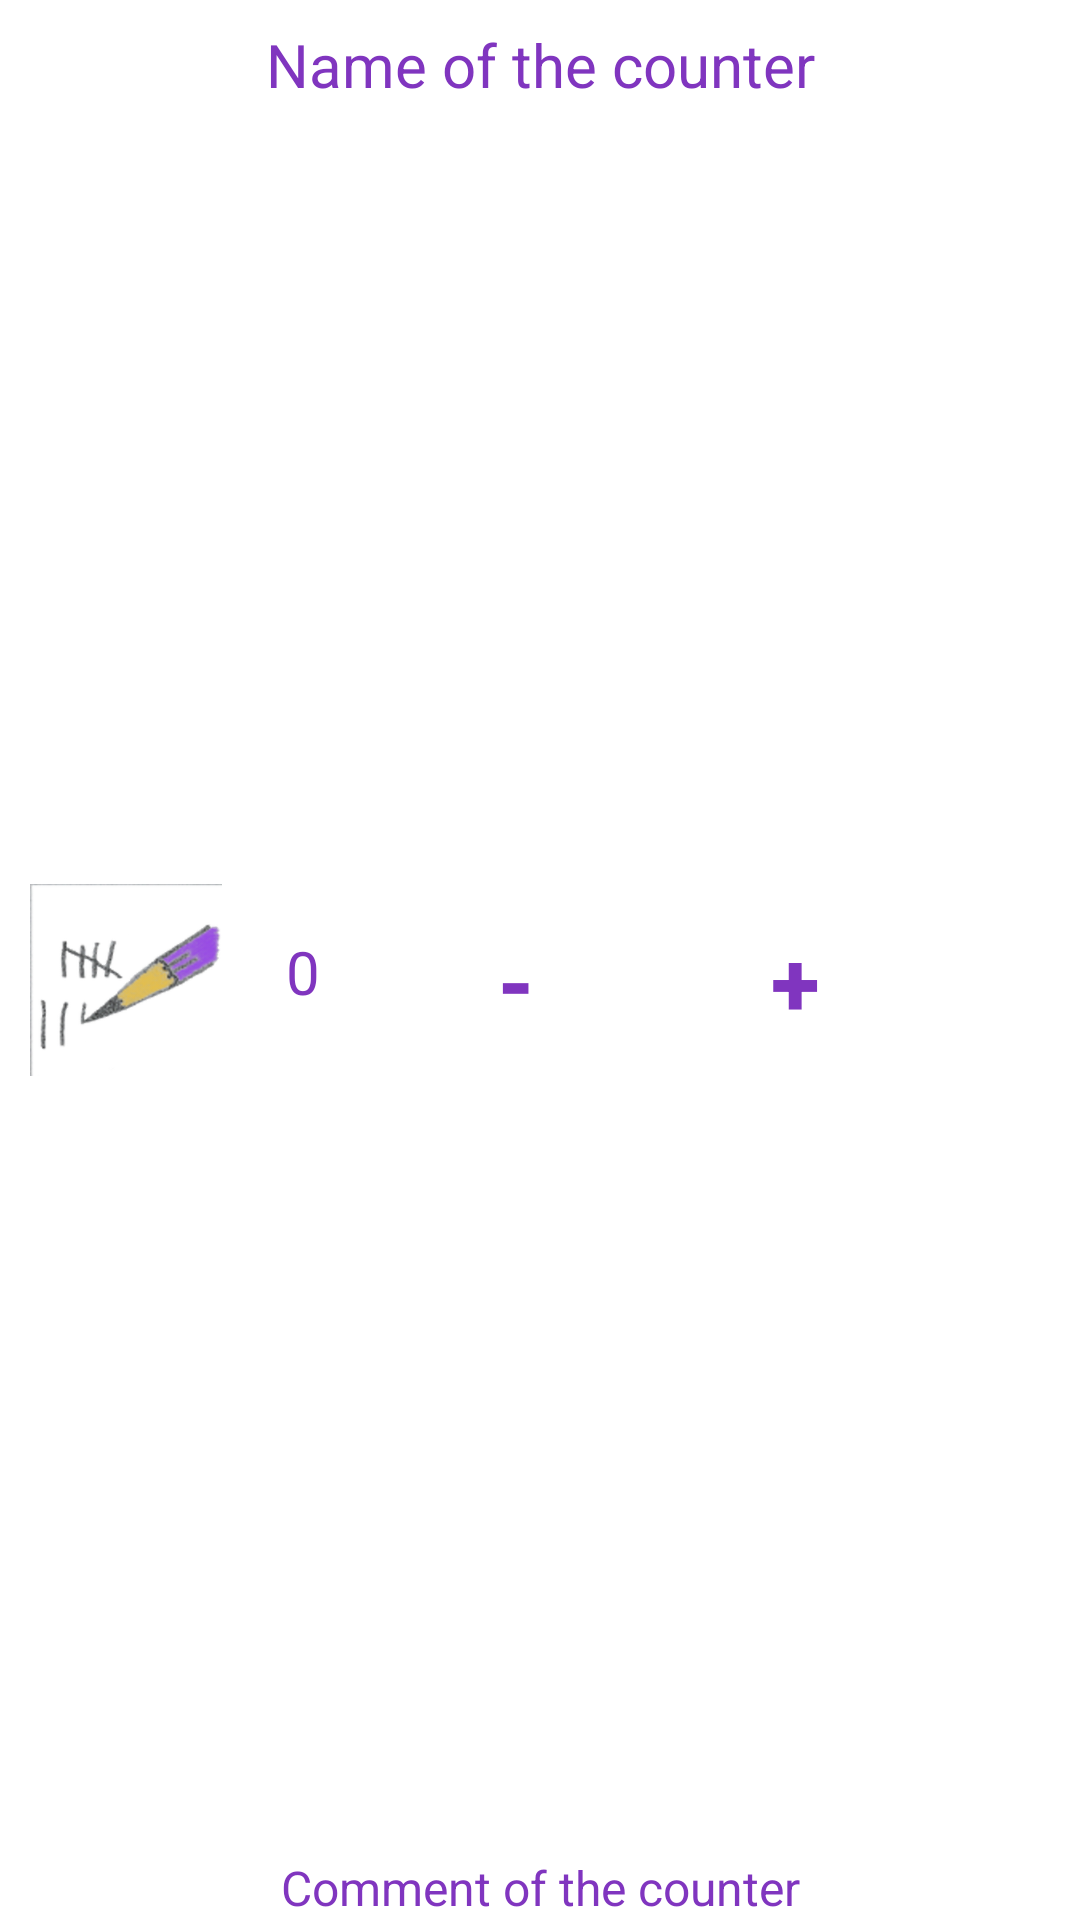

Where icons sit on this 1080*1920 app screen, as (x1, y1, x2, y2):
Picture of a counter: (30, 884, 222, 1076)
